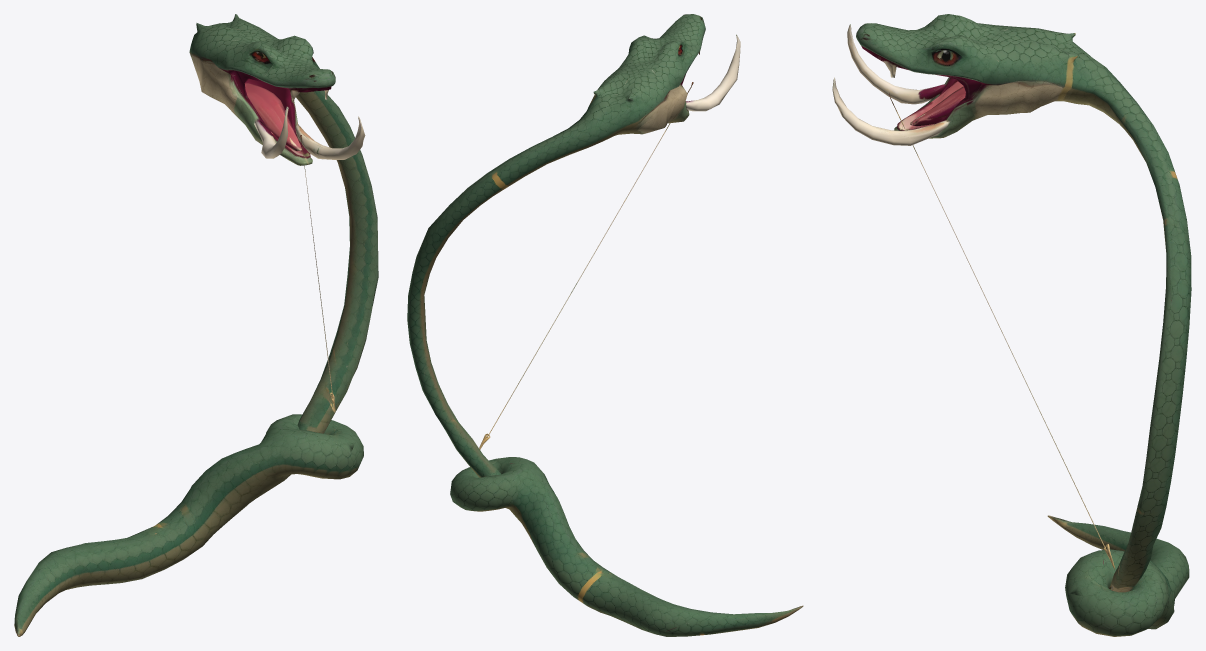
Rendered from serpent-fang_refine.glb.
3 renders of one model, left to right at view 1: azimuth 30°, elevation 25°; view 2: azimuth 150°, elevation 25°; view 3: azimuth 270°, elevation 25°, orthographic. The views are drawn at different scales.
Bounding box in the file's own units: 0.6846 × 0.9531 × 0.5005.
Materials: 1 (1 with a texture image).
